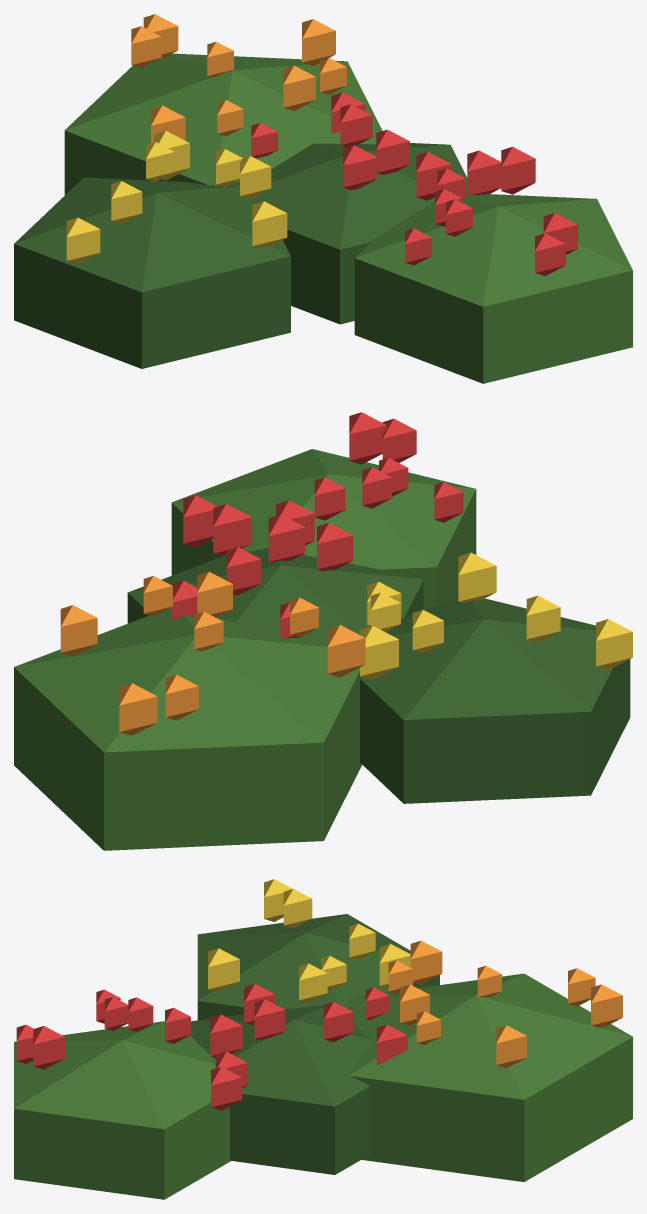
File: flower_patch_summer.glb
3 renders of one model, top to bottom at view 1: azimuth 30°, elevation 25°; view 2: azimuth 150°, elevation 25°; view 3: azimuth 270°, elevation 25°, orthographic. The views are drawn at different scales.
Visible parts, largest first — view 1: flower_patch_summer; view 2: flower_patch_summer; view 3: flower_patch_summer.
Part boxes in pixels (x1,y1,x2,y2): flower_patch_summer: (14,14,632,383); flower_patch_summer: (14,412,632,850); flower_patch_summer: (14,879,632,1199).
Size of the model in its own units: 2.22 by 0.9119 by 2.7.
